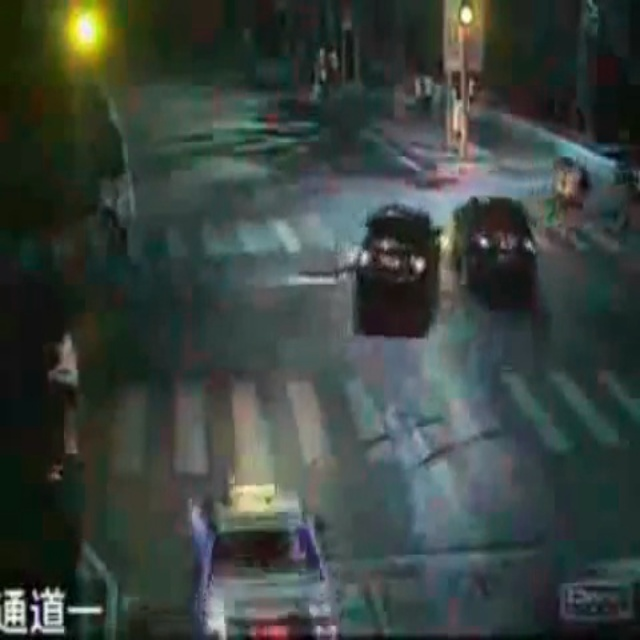acc: (357, 193, 537, 310)
